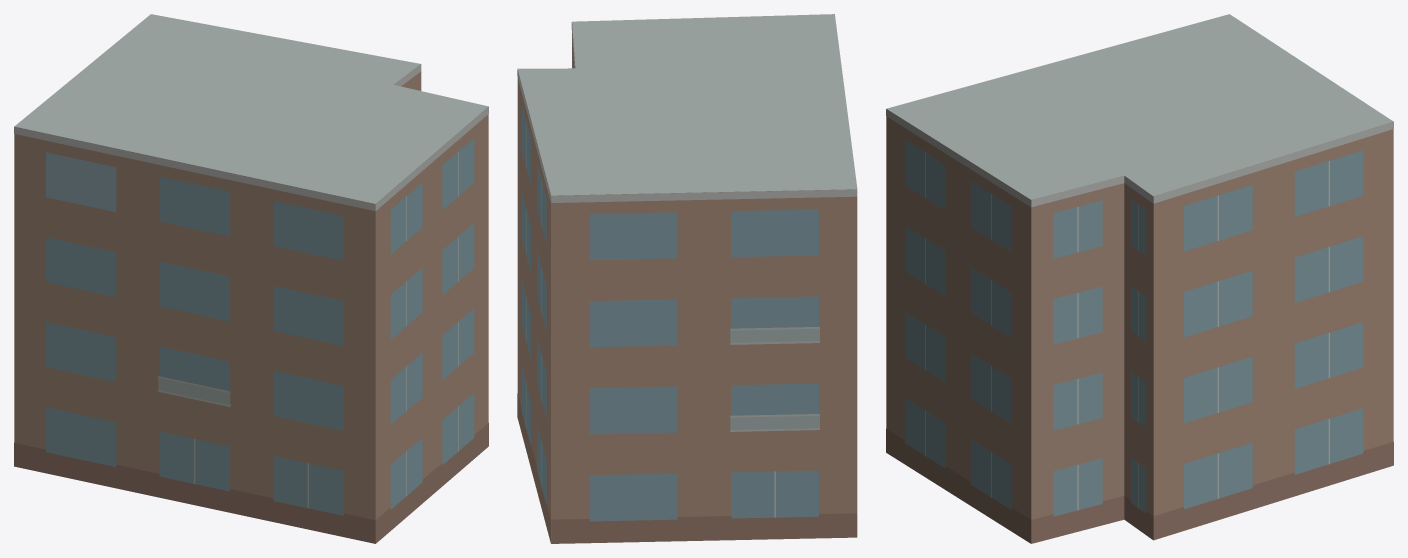
File: survey-upis-32959604.glb
3 renders of one model, left to right at view 1: azimuth 30°, elevation 25°; view 2: azimuth 150°, elevation 25°; view 3: azimuth 270°, elevation 25°, orthographic. The views are drawn at different scales.
Visible parts, largest first — view 1: survey-upis-32959604.tmp; view 2: survey-upis-32959604.tmp; view 3: survey-upis-32959604.tmp.
Boxes of the visible parts, x1,y1,x2,y2 form: survey-upis-32959604.tmp: (14,14,488,543); survey-upis-32959604.tmp: (517,14,857,543); survey-upis-32959604.tmp: (886,14,1393,543).
Size of the model in its own units: 13.23 by 11.4 by 15.26.
